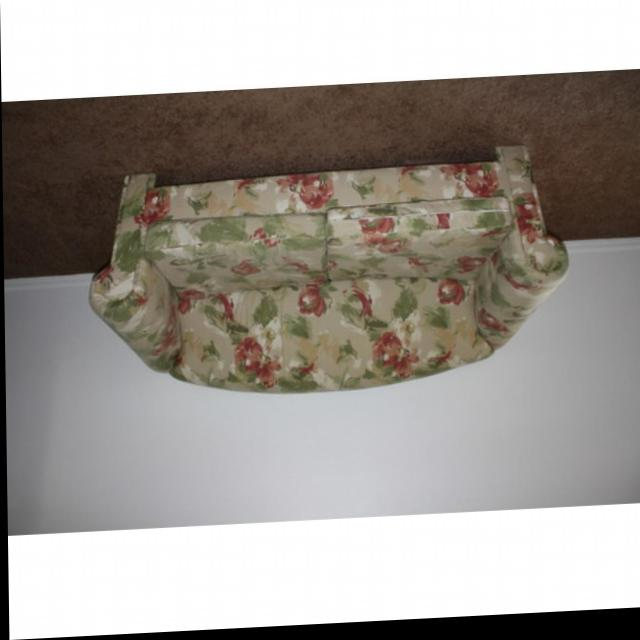Sofa: (86, 150, 571, 408)
